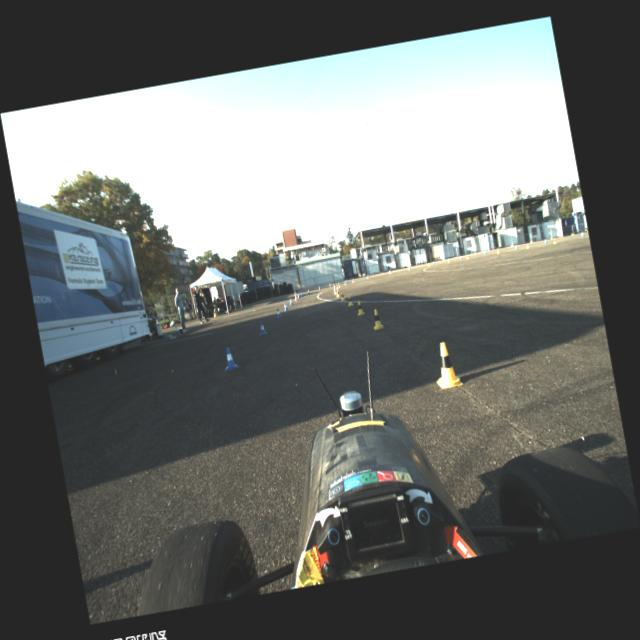blue_cone: (221, 346, 239, 370), (256, 320, 268, 336), (274, 307, 282, 318), (282, 302, 288, 311), (288, 298, 294, 306), (580, 230, 584, 237), (296, 293, 300, 299), (306, 288, 310, 294), (458, 254, 462, 259), (514, 244, 517, 249), (300, 291, 302, 297), (483, 250, 486, 254), (318, 285, 320, 290), (329, 282, 331, 286), (345, 278, 347, 282), (388, 270, 390, 274), (432, 260, 434, 264), (544, 238, 546, 242)
large_orange_cone: (292, 290, 298, 301), (332, 283, 337, 291)
yellow_cone: (429, 340, 463, 389), (371, 308, 384, 330), (354, 299, 364, 315), (346, 294, 353, 306), (340, 291, 346, 300), (334, 288, 340, 297), (332, 286, 338, 294), (552, 237, 556, 244), (496, 248, 499, 254), (526, 244, 530, 248), (446, 258, 449, 262), (336, 283, 338, 289), (388, 270, 391, 274), (466, 254, 468, 259), (366, 274, 368, 279), (338, 282, 340, 287), (344, 280, 346, 285), (428, 262, 430, 266), (408, 266, 410, 270), (352, 278, 354, 282)
